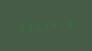eight: (49, 19, 56, 30), (65, 18, 72, 29), (25, 21, 32, 31)
one: (57, 19, 64, 29)
three: (41, 20, 48, 30)
two: (33, 20, 40, 31)
zero: (17, 21, 24, 32)
